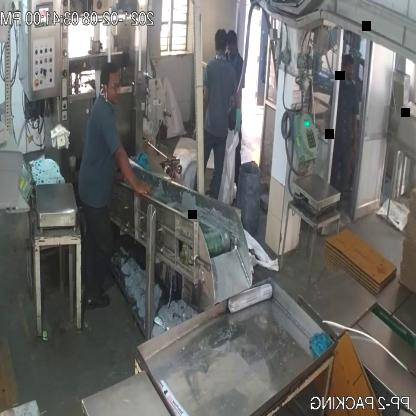no_glove: (113, 149, 153, 203)
